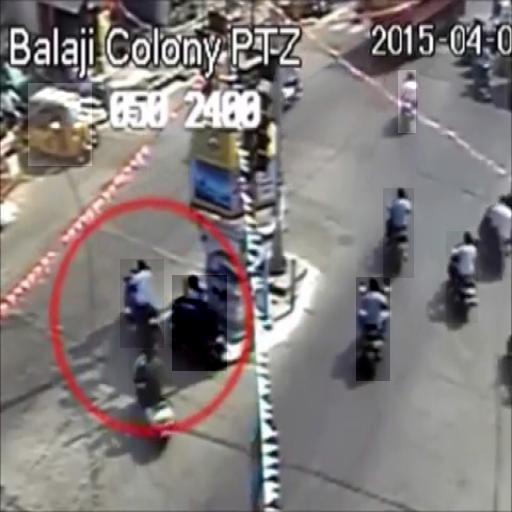小汽车: (28, 83, 92, 166)
自行车: (172, 275, 227, 371), (129, 344, 172, 440), (120, 259, 164, 348), (356, 277, 390, 381), (446, 231, 478, 323), (383, 188, 414, 278), (398, 70, 416, 133)
